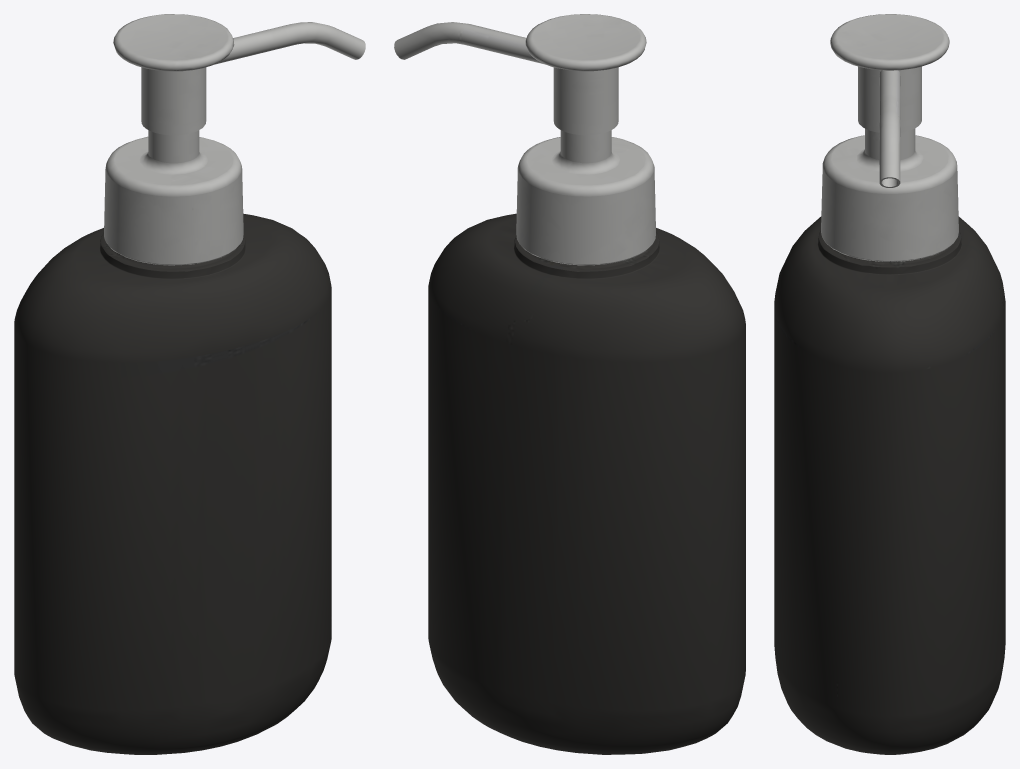
File: ekoln_dozownik_myda_40441619.glb
3 views of the same model, side by side, from view 1: azimuth 30°, elevation 25°; view 2: azimuth 150°, elevation 25°; view 3: azimuth 270°, elevation 25° (orthographic).
Parts seen in each view (by area): view 1: ekoln_dozownik_myda_40441619; view 2: ekoln_dozownik_myda_40441619; view 3: ekoln_dozownik_myda_40441619.
Boxes of the visible parts, x1=… form: ekoln_dozownik_myda_40441619: x1=14, y1=14, x2=365, y2=754; ekoln_dozownik_myda_40441619: x1=394, y1=14, x2=745, y2=754; ekoln_dozownik_myda_40441619: x1=774, y1=14, x2=1005, y2=754.
Bounding box in the file's own units: 0.0916 × 0.1746 × 0.055.
Materials: 1 (1 with a texture image).
